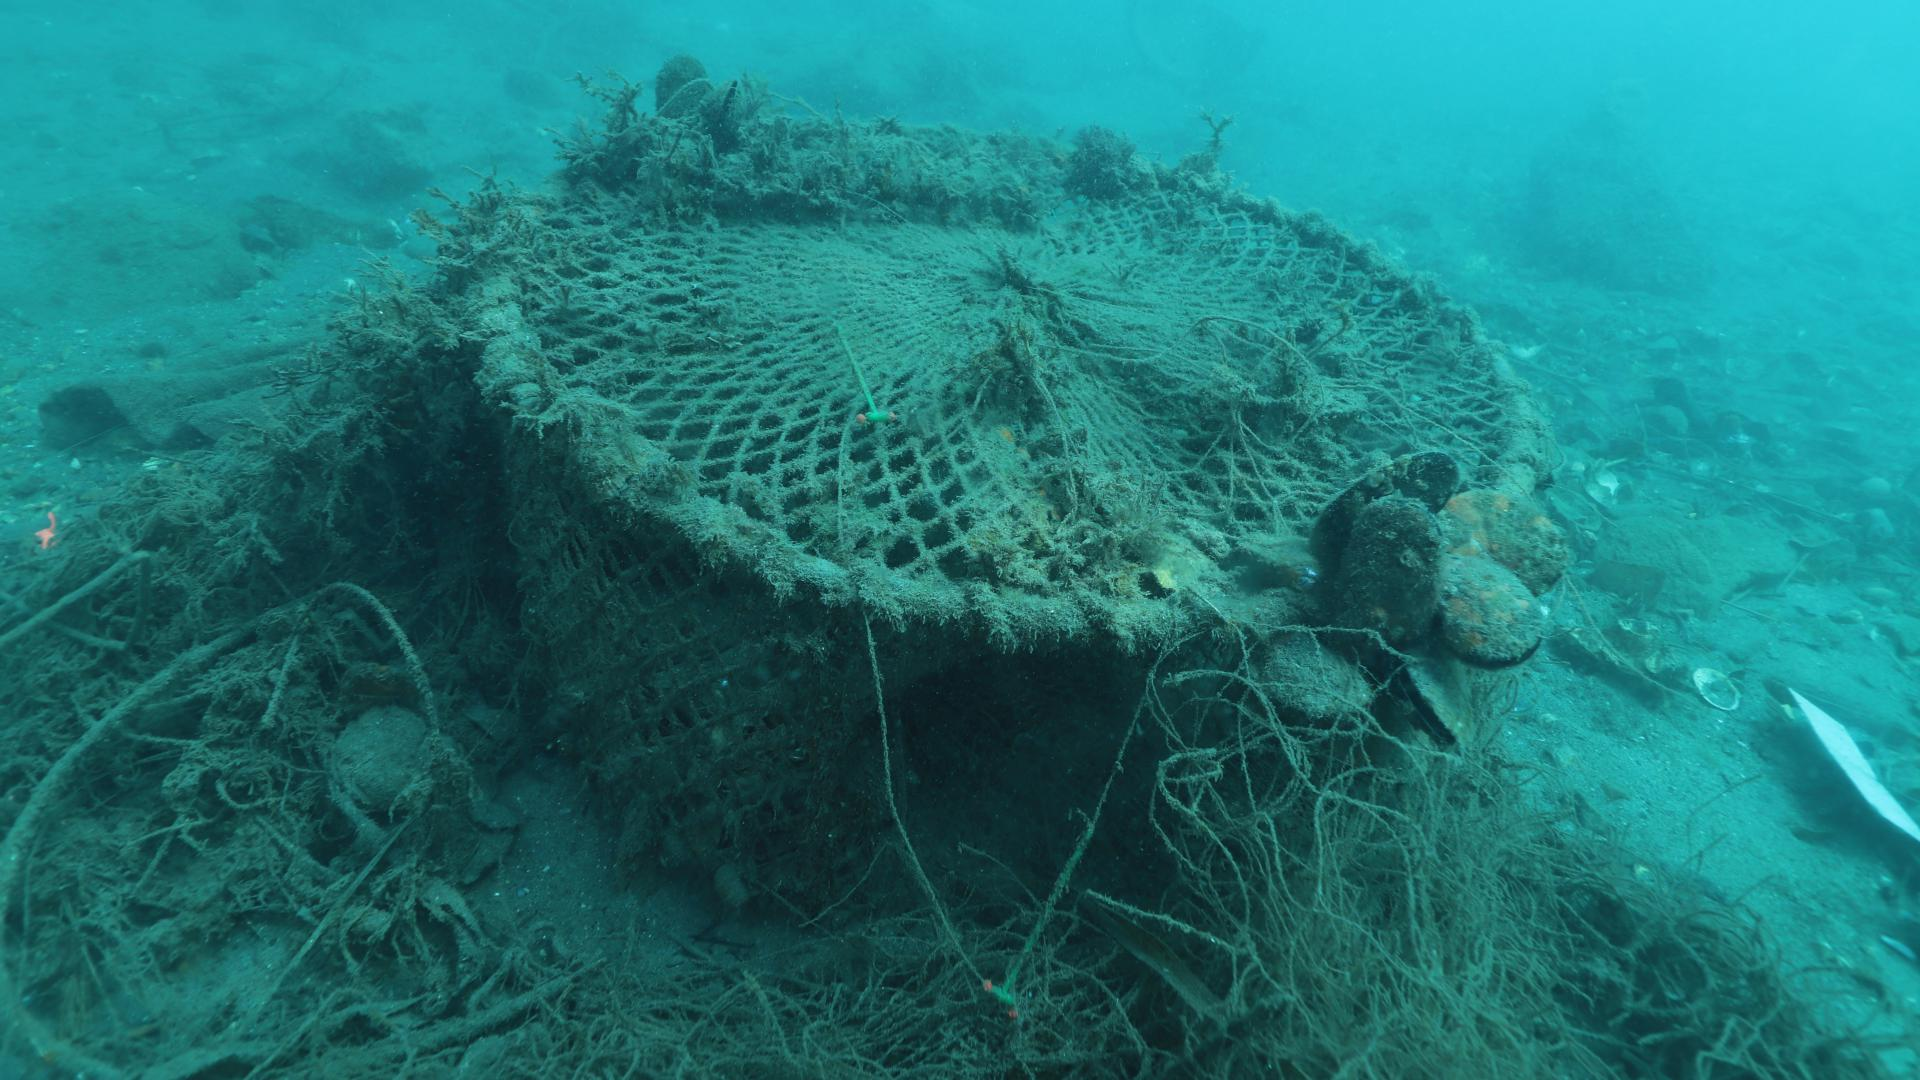circular fish trap: (468, 129, 1555, 934)
